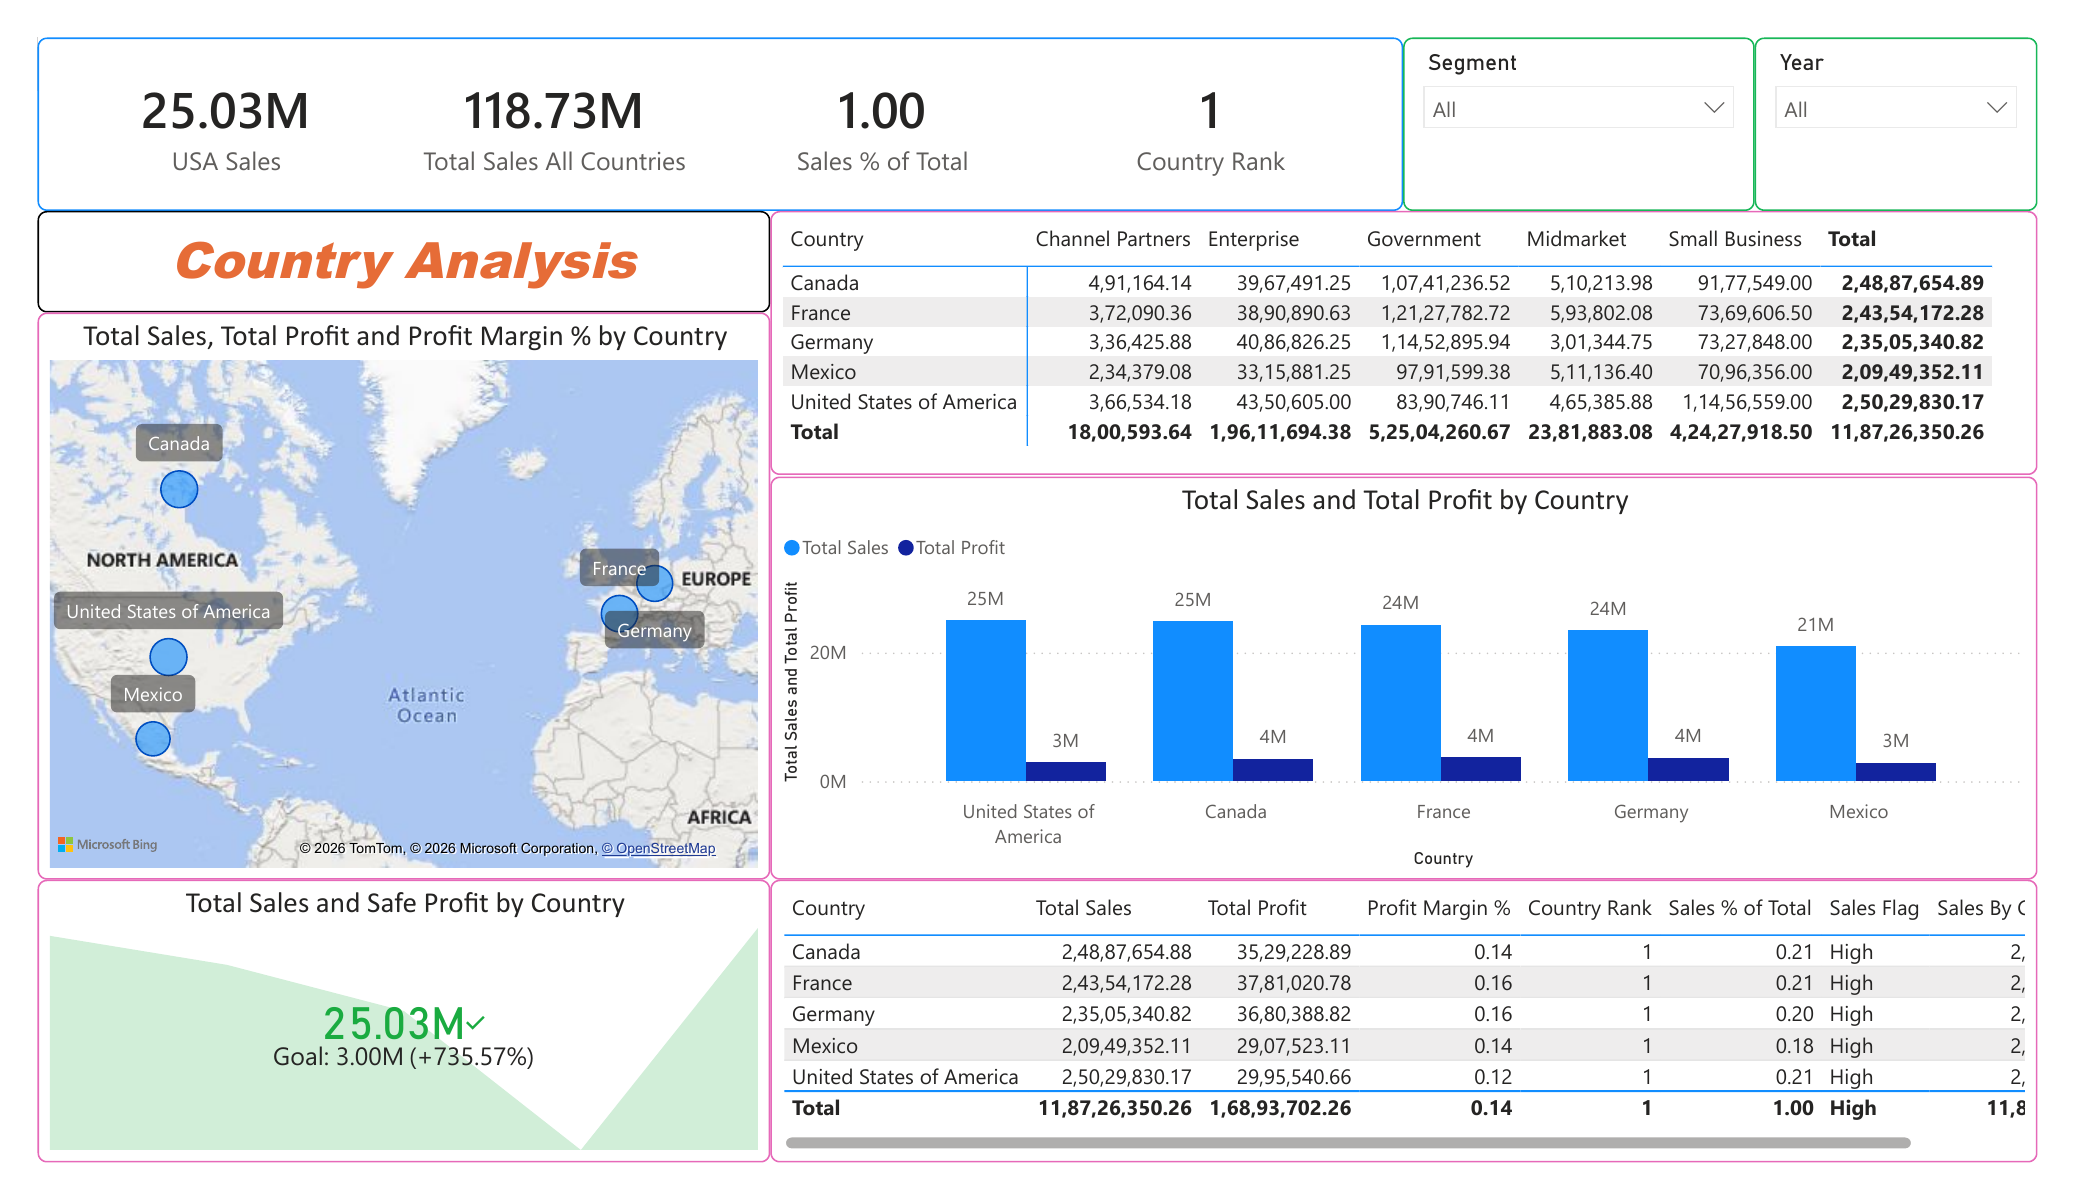

The page's visual inventory and layout, read from the dashboard file:
{"tool":"powerbi","page":{"name":"Country Analysis","canvas":[1280,720],"ordinal":1},"visuals":[{"type":"cardVisual","title":"SUM()","fields":{"Data":["Measure.USA Sales","Measure.Total Sales All Countries","Measure.Sales % of Total","Measure.Country Rank"]},"box":[0,0,874.4,110.7],"z":0},{"type":"textbox","box":[0,110.7,468.7,65.2],"z":1000},{"type":"map","fields":{"Category":["financials.Country"],"Size":["Measure.Total Sales"]},"box":[0,175.9,468.7,544.3],"z":2000},{"type":"pivotTable","fields":{"Rows":["financials.Country"],"Columns":["financials.Segment"],"Values":["Measure.Total Sales"]},"box":[468.7,110.7,811.3,169.7],"z":3000},{"type":"slicer","fields":{"Values":["financials.Segment"]},"box":[874.4,0,224.5,110.7],"z":4000},{"type":"slicer","fields":{"Values":["financials.Year"]},"box":[1098.9,0,181.1,110.7],"z":5000},{"type":"tableEx","fields":{"Values":["financials.Country","Measure.Total Sales","Measure.Total Profit","Measure.Profit Margin %","Measure.Country Rank","Measure.Sales % of Total","Measure.Sales Flag","Measure.Sales By Country Only"]},"box":[468.7,539.1,811.3,181.1],"z":6000},{"type":"clusteredColumnChart","fields":{"Category":["financials.Country"],"Y":["Measure.Total Sales","Measure.Total Profit"]},"box":[468.7,281.5,811.3,257.7],"z":7000}]}

Visuals, with their boxes on the page's 1280x720 design canvas (x1, y1, x2, y2). These are canvas units, not pixel positions in the 2075x1200 screenshot, which may show the page scaled, cropped or inside an application window:
"SUM()" cardVisual: [x1=0, y1=0, x2=874, y2=111]
textbox: [x1=0, y1=111, x2=469, y2=176]
map - financials.Country x Measure.Total Sales: [x1=0, y1=176, x2=469, y2=720]
pivotTable - financials.Country x financials.Segment: [x1=469, y1=111, x2=1280, y2=280]
slicer - financials.Segment: [x1=874, y1=0, x2=1099, y2=111]
slicer - financials.Year: [x1=1099, y1=0, x2=1280, y2=111]
tableEx - financials.Country x Measure.Total Sales: [x1=469, y1=539, x2=1280, y2=720]
clusteredColumnChart - financials.Country x Measure.Total Sales: [x1=469, y1=282, x2=1280, y2=539]
